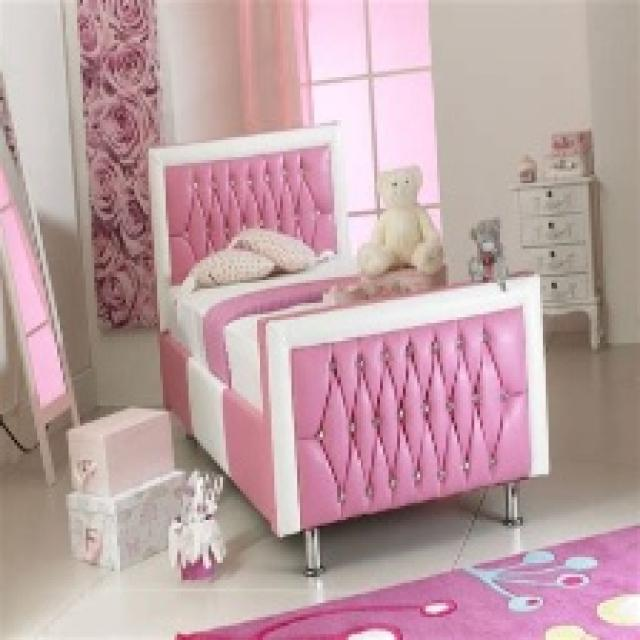Bed: (146, 117, 548, 577)
